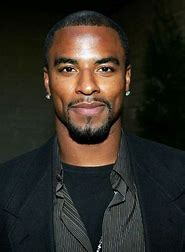person: (41, 11, 131, 146)
